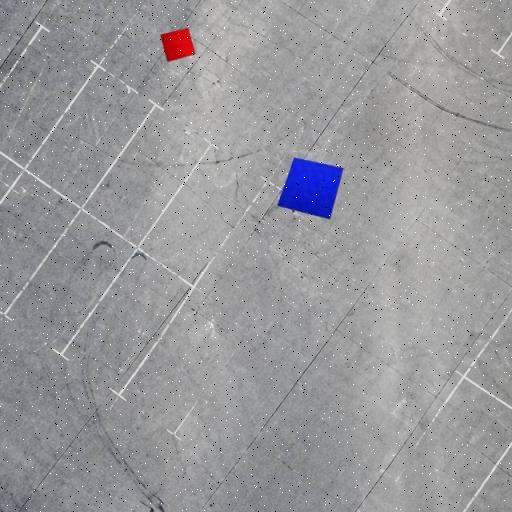BLUE_SQUARE: (277, 157, 344, 220)
RED_SQUARE: (160, 28, 196, 62)
